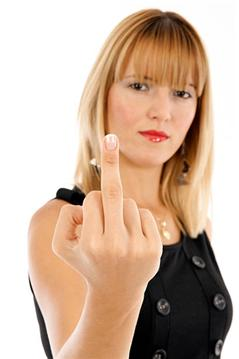insulting_gesture: (50, 133, 164, 292)
